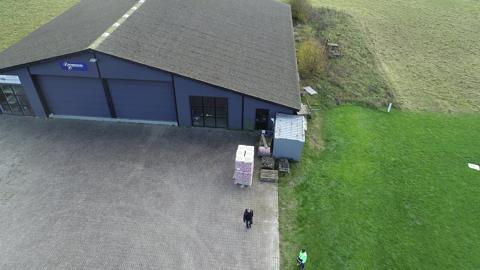RockwoolPallet: (235, 143, 255, 185)
